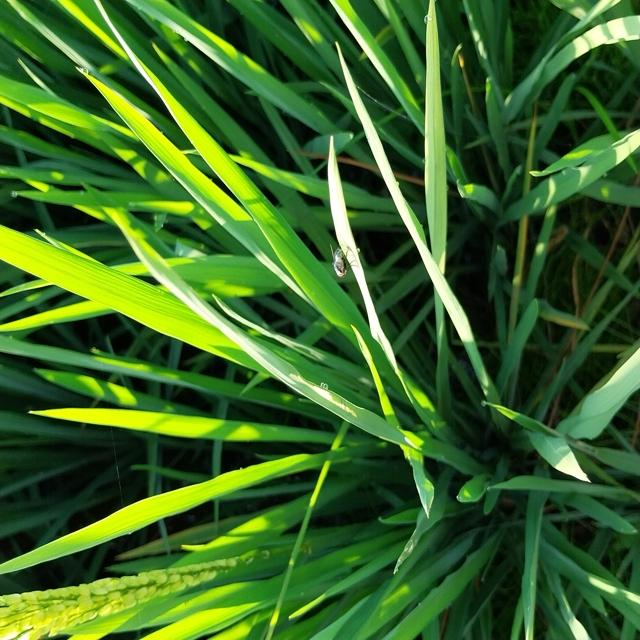Leaf scald: (327, 232, 359, 298)
